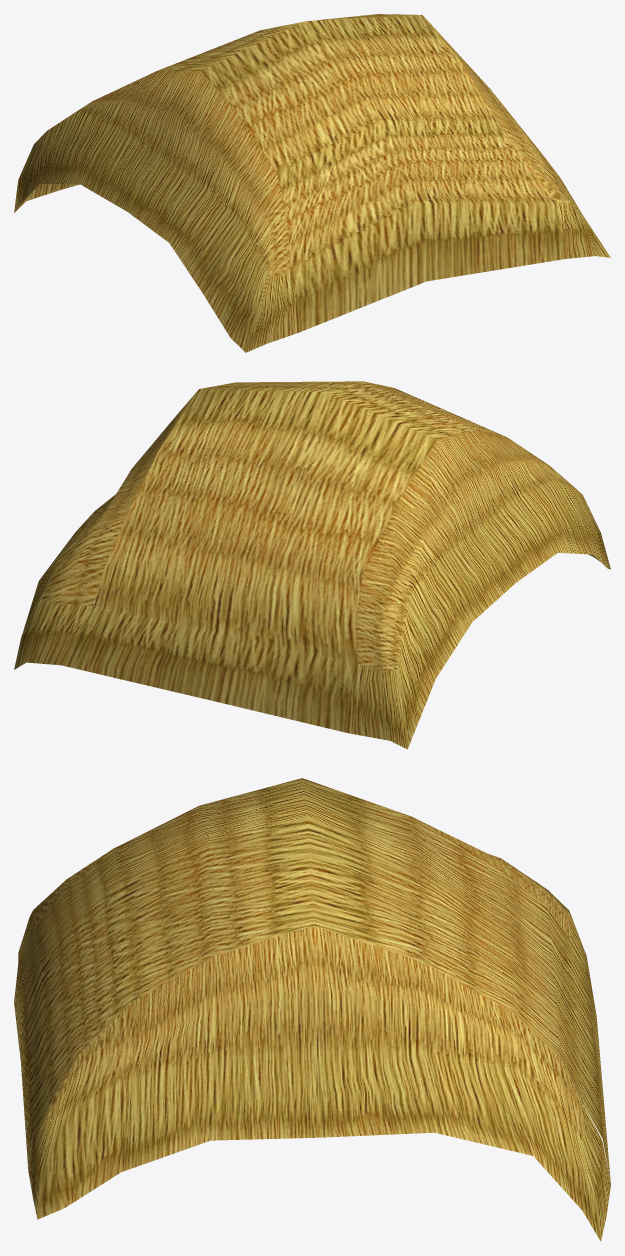
The model's file is HTOWN01_GREENDRAGROOF02.fbx.
The picture shows the model from 3 angles, top to bottom: view 1: azimuth 30°, elevation 25°; view 2: azimuth 150°, elevation 25°; view 3: azimuth 270°, elevation 25°; orthographic projection. The views are drawn at different scales.
Parts seen in each view (by area): view 1: HTOWN01_GREENDRAGROOF02; view 2: HTOWN01_GREENDRAGROOF02; view 3: HTOWN01_GREENDRAGROOF02.
Boxes of the visible parts, <box> form: HTOWN01_GREENDRAGROOF02: <box>14,14,610,352</box>; HTOWN01_GREENDRAGROOF02: <box>14,381,610,749</box>; HTOWN01_GREENDRAGROOF02: <box>14,778,610,1241</box>.
Size of the model in its own units: 21100 by 12109 by 21555.
4 materials, 4 textured.
